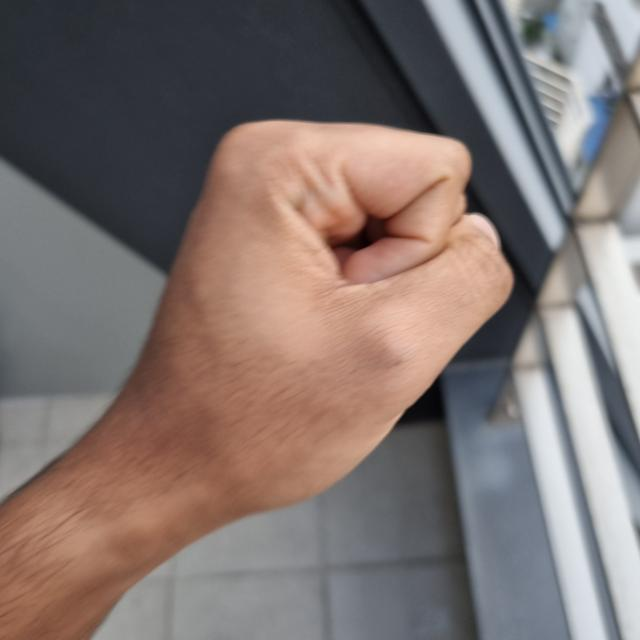Rock: (121, 120, 509, 510)
